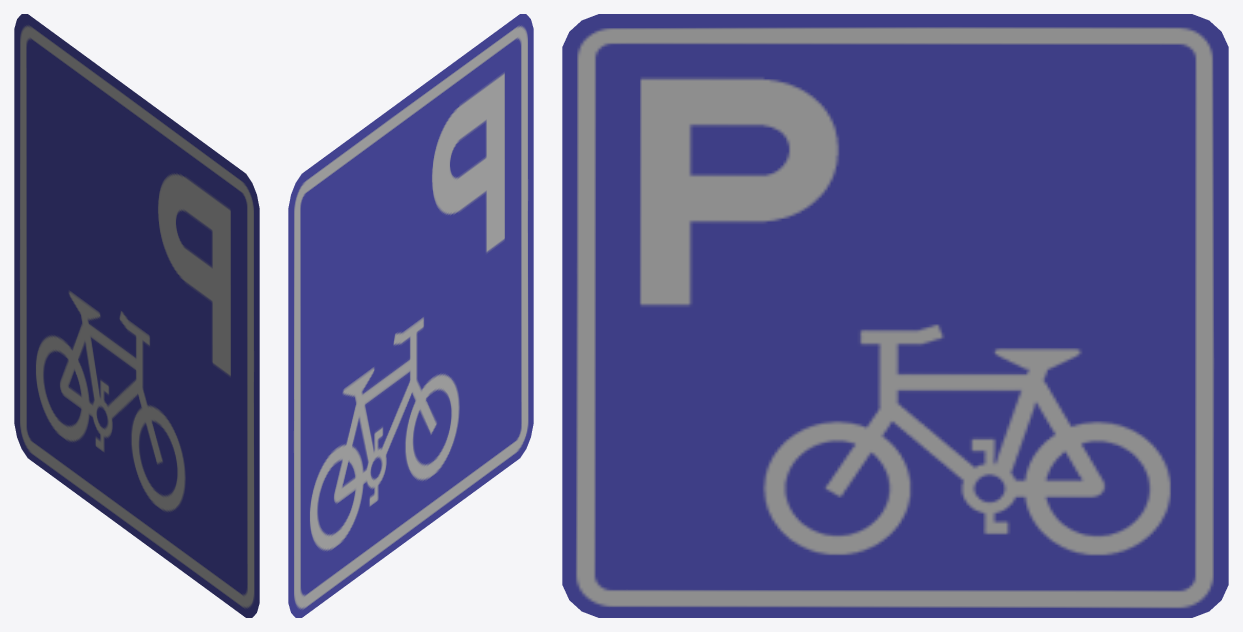
The model's file is SM_TPP_B.fbx.
3 views of the same model, side by side, from view 1: azimuth 30°, elevation 25°; view 2: azimuth 150°, elevation 25°; view 3: azimuth 270°, elevation 25° (orthographic). The views are drawn at different scales.
Parts seen in each view (by area): view 1: SM_TPP_B; view 2: SM_TPP_B; view 3: SM_TPP_B.
Part boxes in pixels (x1,y1,x2,y2): SM_TPP_B: (14, 14, 259, 617); SM_TPP_B: (288, 14, 533, 617); SM_TPP_B: (562, 14, 1228, 617).
Size of the model in its own units: 1.48e-06 by 1 by 1.
